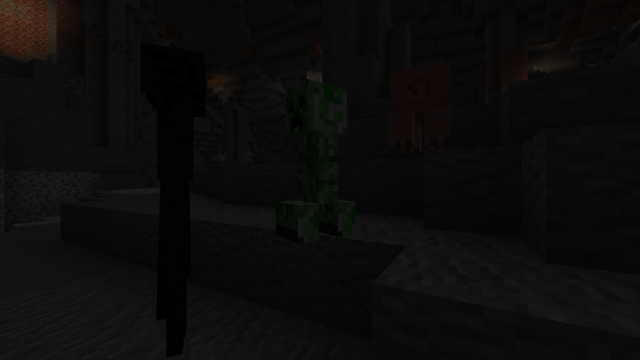cochons: (377, 56, 463, 154)
creepers: (277, 69, 349, 243)
endermens: (127, 26, 222, 357)
